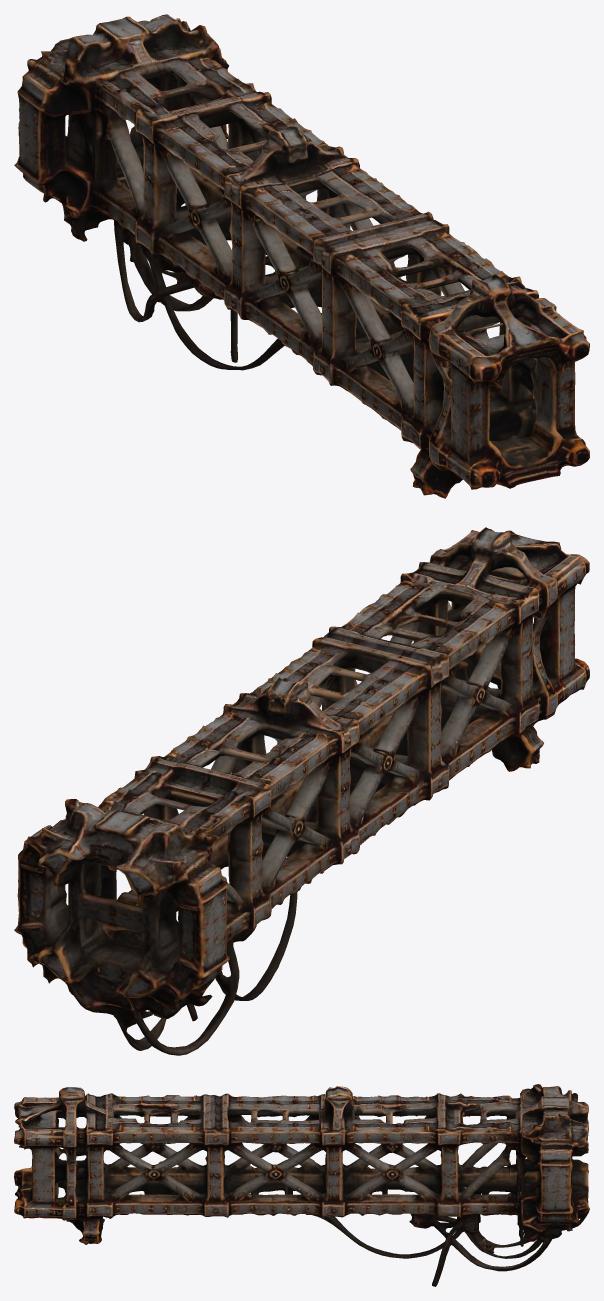
Rendered from trussgirder.glb.
The picture shows the model from 3 angles, top to bottom: view 1: azimuth 30°, elevation 25°; view 2: azimuth 150°, elevation 25°; view 3: azimuth 270°, elevation 25°; orthographic projection. The views are drawn at different scales.
Visible parts, largest first — view 1: input; view 2: input; view 3: input.
Boxes of the visible parts, x1,y1,x2,y2 form: input: (14, 14, 589, 498); input: (14, 527, 589, 1055); input: (14, 1084, 589, 1286).
Size of the model in its own units: 0.7542 by 1.1 by 3.
Materials: 1 (1 with a texture image).
